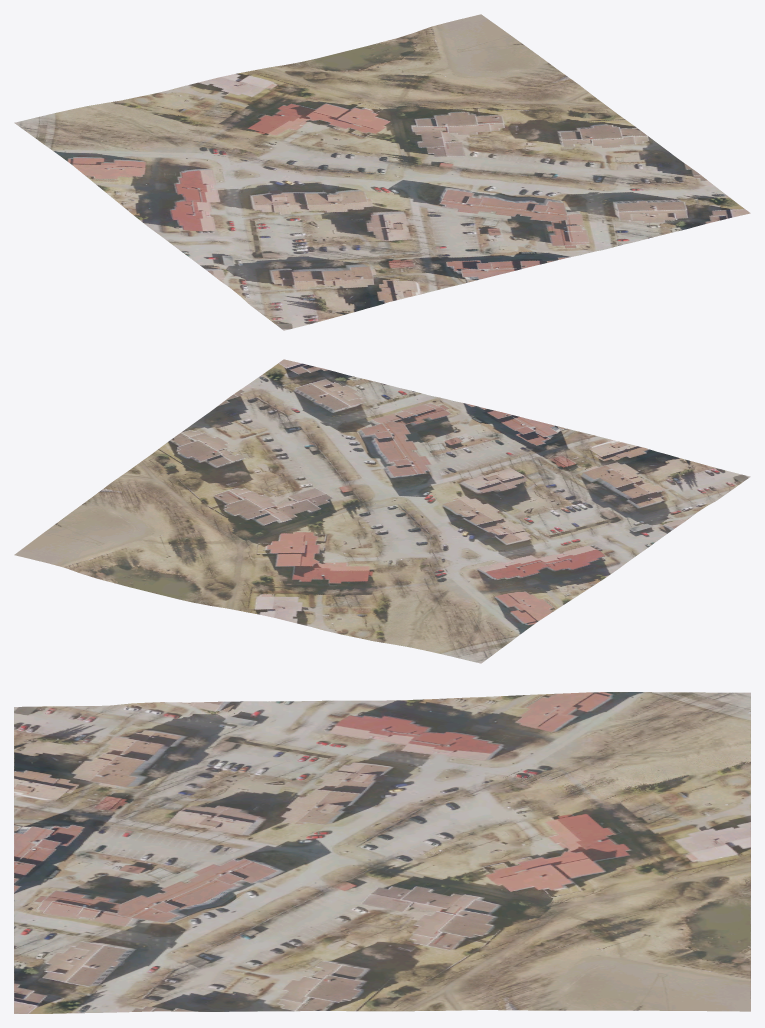
Rendered from CM_Terrain_24491687_6819999.fbx.
3 views of the same model, one above another, from view 1: azimuth 30°, elevation 25°; view 2: azimuth 150°, elevation 25°; view 3: azimuth 270°, elevation 25° (orthographic). The views are drawn at different scales.
Parts seen in each view (by area): view 1: CM_Terrain_24491687_6819999_LOD0; view 2: CM_Terrain_24491687_6819999_LOD0; view 3: CM_Terrain_24491687_6819999_LOD0.
Part boxes in pixels (x1=…): CM_Terrain_24491687_6819999_LOD0: x1=14, y1=14, x2=750, y2=330; CM_Terrain_24491687_6819999_LOD0: x1=14, y1=359, x2=750, y2=663; CM_Terrain_24491687_6819999_LOD0: x1=14, y1=692, x2=750, y2=1013.
Size of what is drawn, in the model's own units: 205 by 4.8 by 205.
